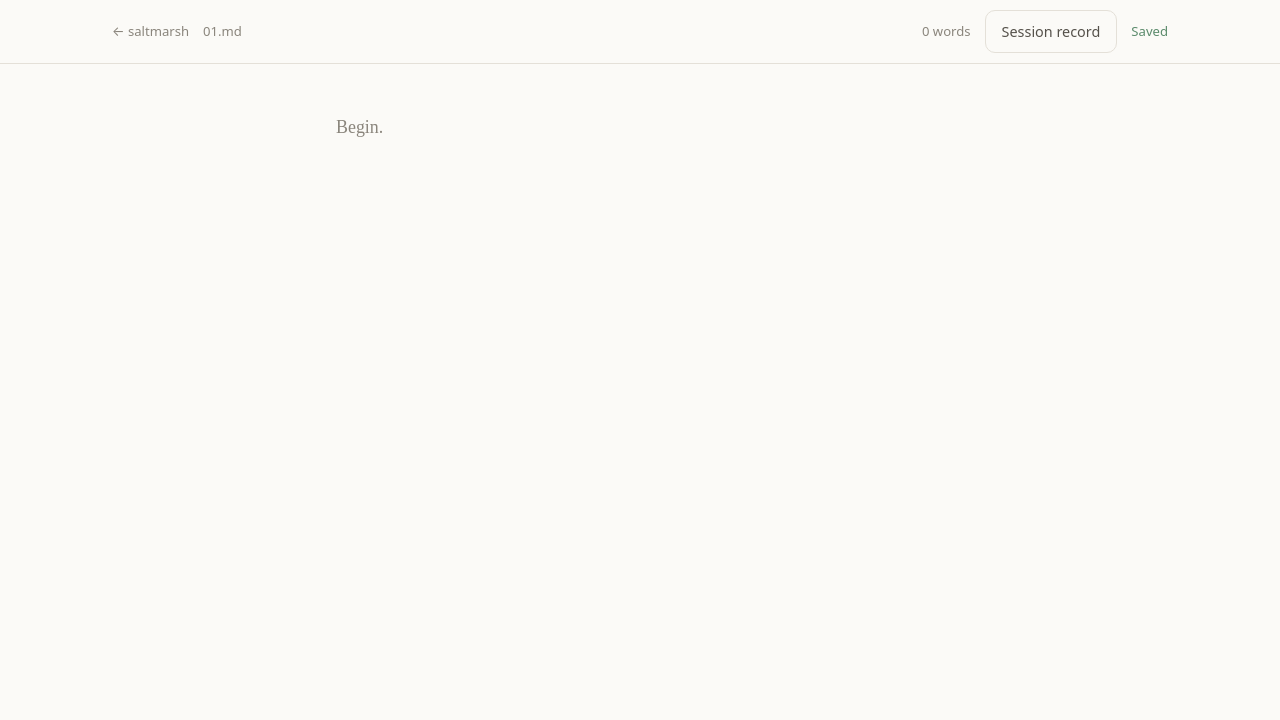
Scenario: rendering › updates the count as the author writes
Type "One two three." into the text box at (640, 368), box [336, 112, 944, 624]
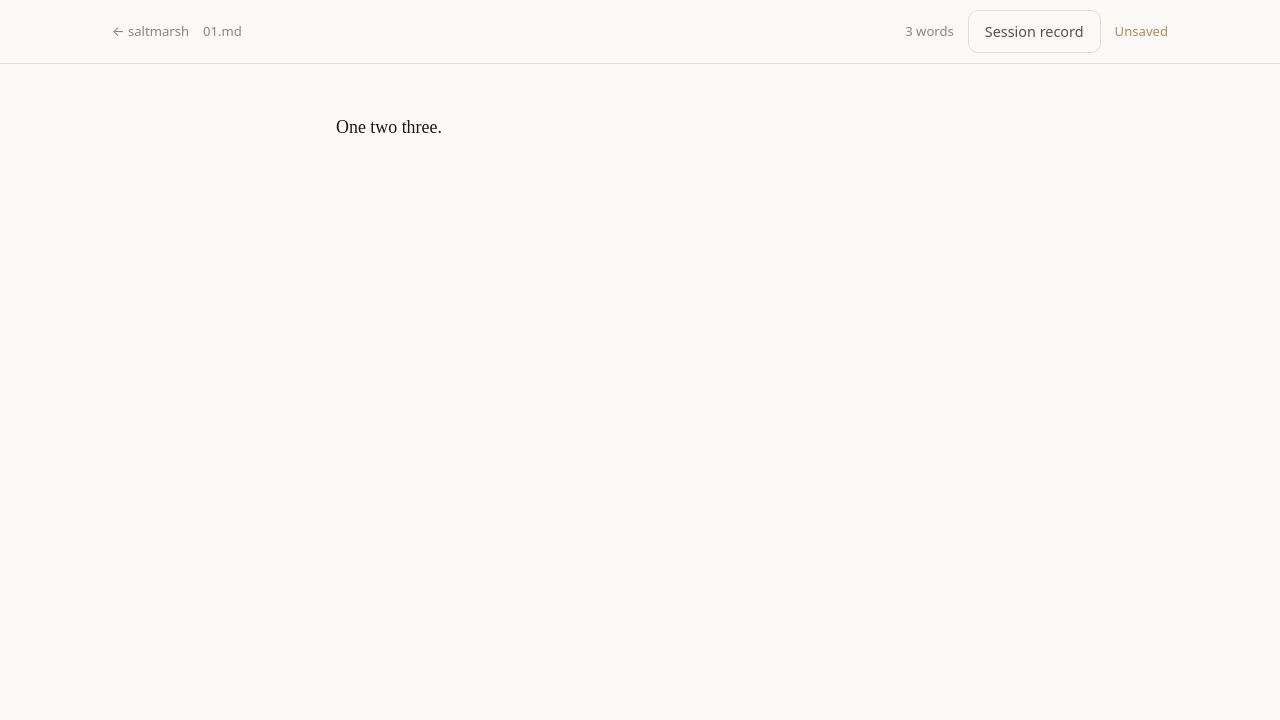
Expected: the text "3 words" is shown, [905, 21, 954, 42]
